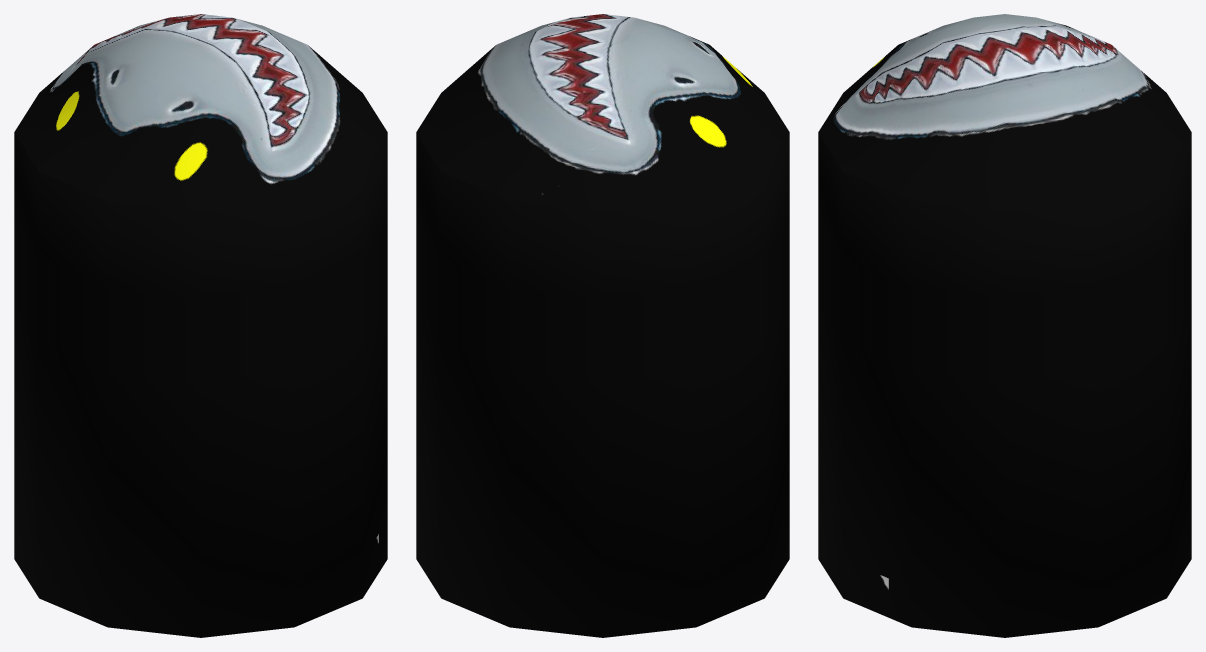
The model's file is bala.fbx.
3 renders of one model, left to right at view 1: azimuth 30°, elevation 25°; view 2: azimuth 150°, elevation 25°; view 3: azimuth 270°, elevation 25°, orthographic.
Parts seen in each view (by area): view 1: Cylinder; view 2: Cylinder; view 3: Cylinder.
Part boxes in pixels (left/top/right/bottom): Cylinder: left=14, top=14, right=387, bottom=637; Cylinder: left=416, top=14, right=789, bottom=637; Cylinder: left=818, top=14, right=1191, bottom=637.
Size of the model in its own units: 200 by 310 by 200.
Materials: 1 (1 with a texture image).
